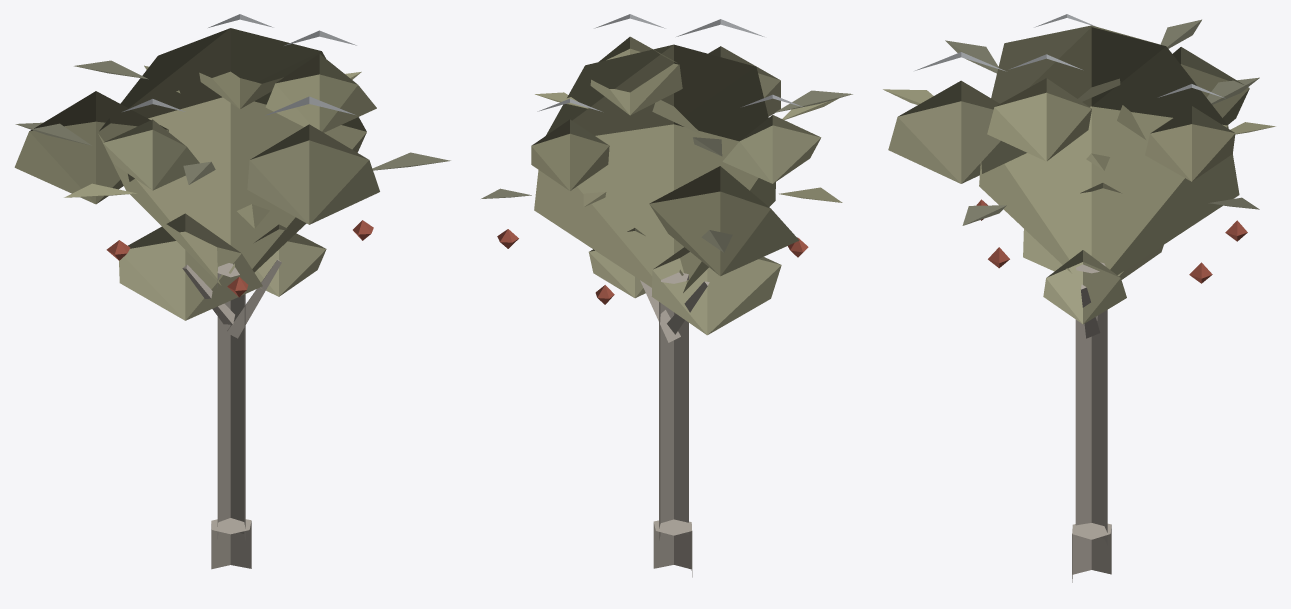
File: shu.chuizhi@fruiting__winter.glb
3 renders of one model, left to right at view 1: azimuth 30°, elevation 25°; view 2: azimuth 150°, elevation 25°; view 3: azimuth 270°, elevation 25°, orthographic. The views are drawn at different scales.
Visible parts, largest first — view 1: shu.chuizhi@fruiting__winter; view 2: shu.chuizhi@fruiting__winter; view 3: shu.chuizhi@fruiting__winter.
Part boxes in pixels (x1=…): shu.chuizhi@fruiting__winter: x1=14, y1=14, x2=450, y2=569; shu.chuizhi@fruiting__winter: x1=481, y1=14, x2=852, y2=577; shu.chuizhi@fruiting__winter: x1=883, y1=14, x2=1275, y2=582.
Bounding box in the file's own units: 6.6 × 10.36 × 6.62.
